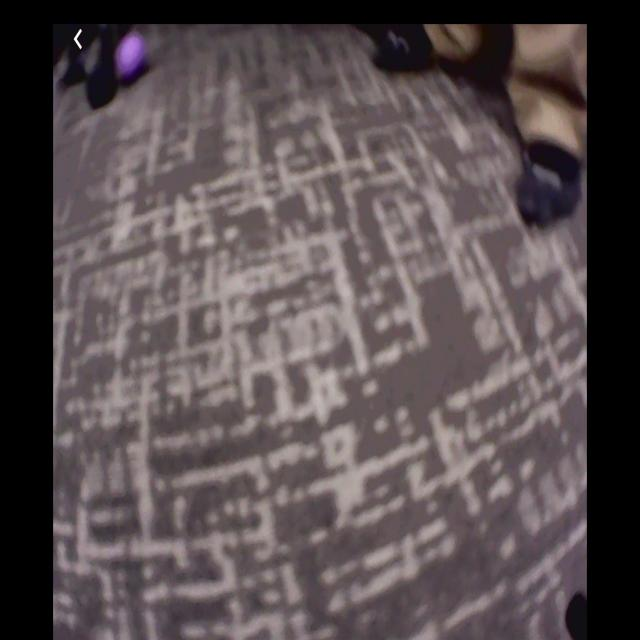ball: (118, 34, 144, 76)
